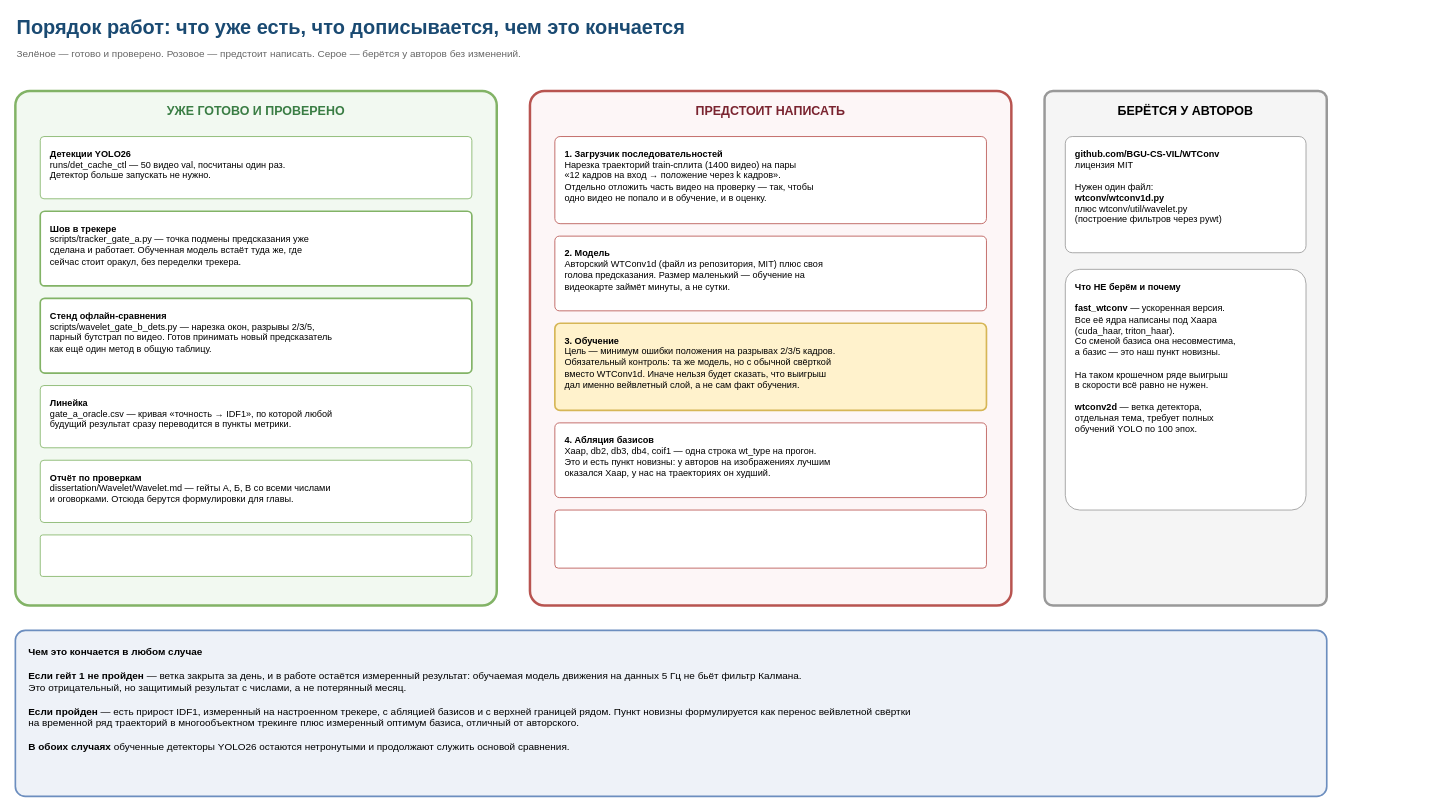
Image size: 1441x811. Some labels were removed from this diagram. The shapes that lost their labels are listed below. From the top down, each one's centre as x and y in pixels, then its label:
[255,555]: pywt 1.8.0 в .venv — зависимость слоя уже стоит.
[770,538]: 5. Прогон в трекере Только если гейт 1 пройден. Один вызов уже готового скрипта.
